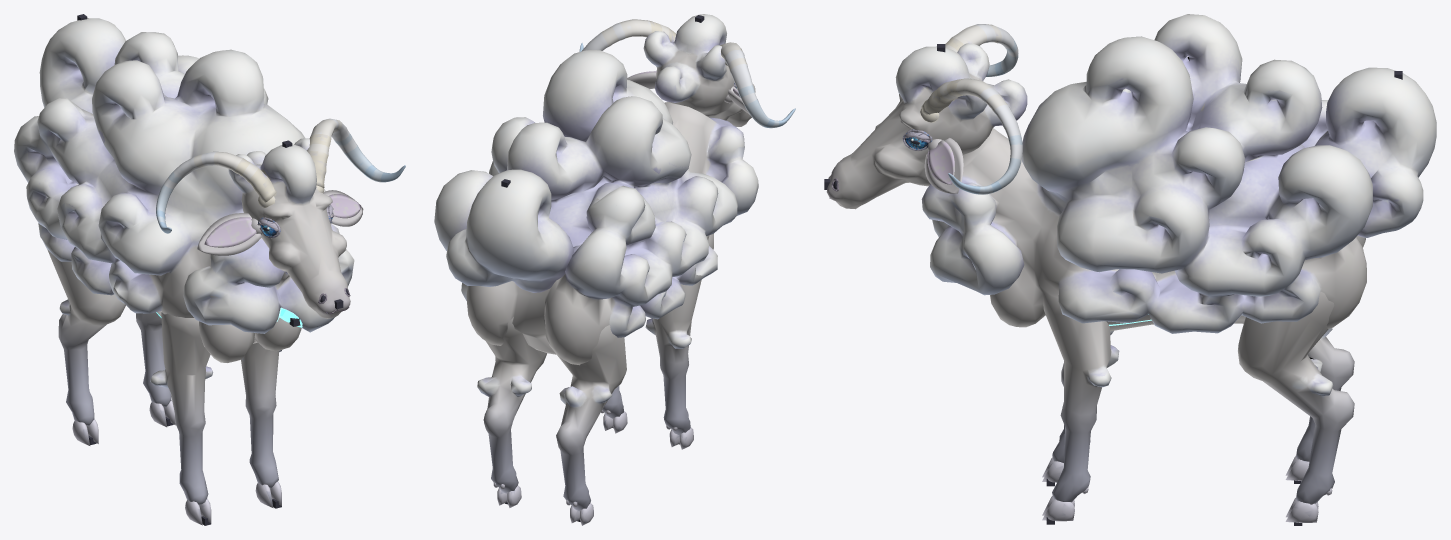
The model's file is CloudSheep.fbx.
The picture shows the model from 3 angles, left to right: view 1: azimuth 30°, elevation 25°; view 2: azimuth 150°, elevation 25°; view 3: azimuth 270°, elevation 25°; orthographic projection. The views are drawn at different scales.
Parts seen in each view (by area): view 1: CloudSheep_Body, CloudSheep_Head, CloudSheep_LegFR, CloudSheep_LegBR, CloudSheep_Tail, CloudSheep_LegFL, CloudSheep_LegBL, CloudSheep_EarR, CloudSheep_EarL; view 2: CloudSheep_Body, CloudSheep_Tail, CloudSheep_Head, CloudSheep_LegBR, CloudSheep_LegBL, CloudSheep_LegFR, CloudSheep_LegFL; view 3: CloudSheep_Body, CloudSheep_Head, CloudSheep_Tail, CloudSheep_LegBL, CloudSheep_LegFL, CloudSheep_LegBR, CloudSheep_EarL, CloudSheep_LegFR.
Part boxes in pixels (x1=…): CloudSheep_Body: x1=14, y1=32, x2=354, y2=362; CloudSheep_Head: x1=156, y1=118, x2=405, y2=318; CloudSheep_LegFR: x1=150, y1=312, x2=212, y2=525; CloudSheep_LegBR: x1=47, y1=249, x2=125, y2=445; CloudSheep_Tail: x1=39, y1=18, x2=125, y2=113; CloudSheep_LegFL: x1=241, y1=342, x2=281, y2=507; CloudSheep_LegBL: x1=136, y1=312, x2=175, y2=427; CloudSheep_EarR: x1=197, y1=213, x2=262, y2=255; CloudSheep_EarL: x1=323, y1=190, x2=363, y2=226; CloudSheep_Body: x1=434, y1=49, x2=758, y2=365; CloudSheep_Tail: x1=446, y1=169, x2=573, y2=292; CloudSheep_Head: x1=579, y1=14, x2=795, y2=128; CloudSheep_LegBR: x1=542, y1=314, x2=626, y2=525; CloudSheep_LegBL: x1=477, y1=317, x2=546, y2=507; CloudSheep_LegFR: x1=645, y1=280, x2=701, y2=449; CloudSheep_LegFL: x1=601, y1=385, x2=627, y2=433; CloudSheep_Body: x1=921, y1=14, x2=1372, y2=333; CloudSheep_Head: x1=826, y1=24, x2=1027, y2=209; CloudSheep_Tail: x1=1315, y1=67, x2=1436, y2=237; CloudSheep_LegBL: x1=1238, y1=292, x2=1354, y2=522; CloudSheep_LegFL: x1=1042, y1=293, x2=1119, y2=521; CloudSheep_LegBR: x1=1285, y1=328, x2=1354, y2=481; CloudSheep_EarL: x1=924, y1=138, x2=963, y2=193; CloudSheep_LegFR: x1=1042, y1=330, x2=1113, y2=482.
Size of the model in its own units: 0.7237 by 1.27 by 1.48.
6 materials, 1 textured.
